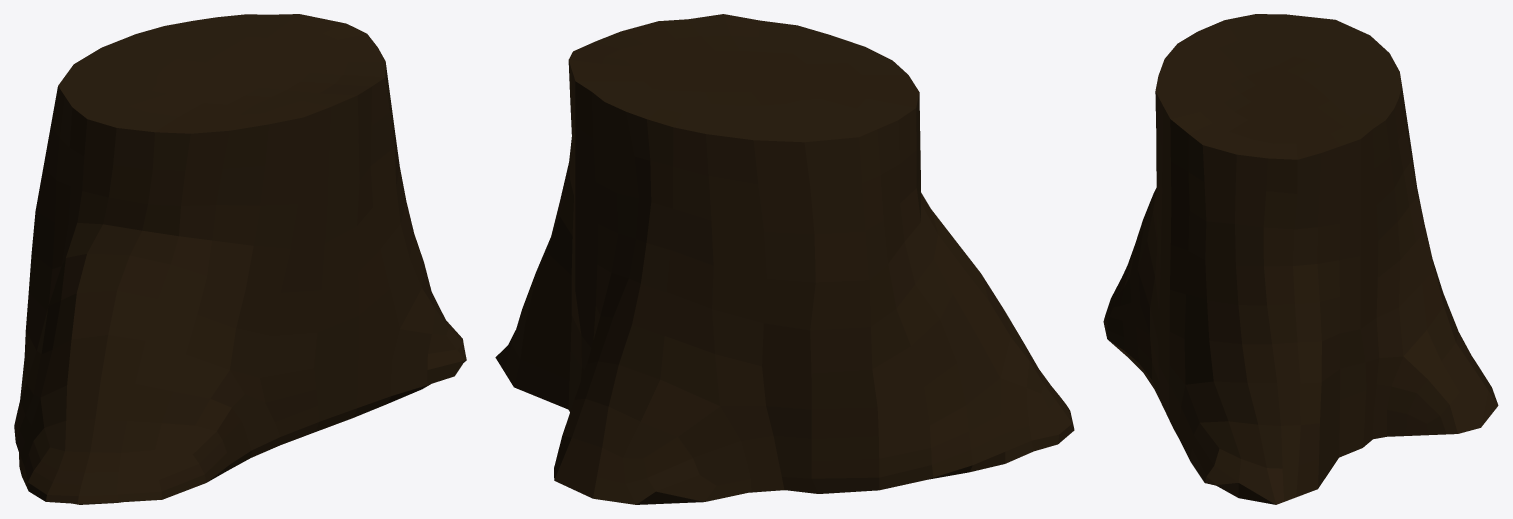
File: TreeStump.glb
3 renders of one model, left to right at view 1: azimuth 30°, elevation 25°; view 2: azimuth 150°, elevation 25°; view 3: azimuth 270°, elevation 25°, orthographic. The views are drawn at different scales.
Visible parts, largest first — view 1: Trunk; view 2: Trunk; view 3: Trunk.
Part boxes in pixels (bbox=[...]): Trunk: bbox=[14, 14, 466, 504]; Trunk: bbox=[495, 14, 1074, 504]; Trunk: bbox=[1103, 14, 1498, 504].
Size of the model in its own units: 9.82 by 6.34 by 7.22.
Materials: 1 (1 with a texture image).
